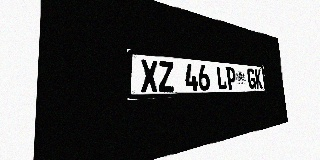4: (184, 63, 198, 91)
6: (197, 64, 210, 90)
G: (247, 68, 256, 89)
K: (254, 69, 263, 89)
L: (216, 66, 227, 90)
P: (226, 67, 236, 90)
X: (140, 59, 158, 92)
Z: (158, 61, 175, 92)
